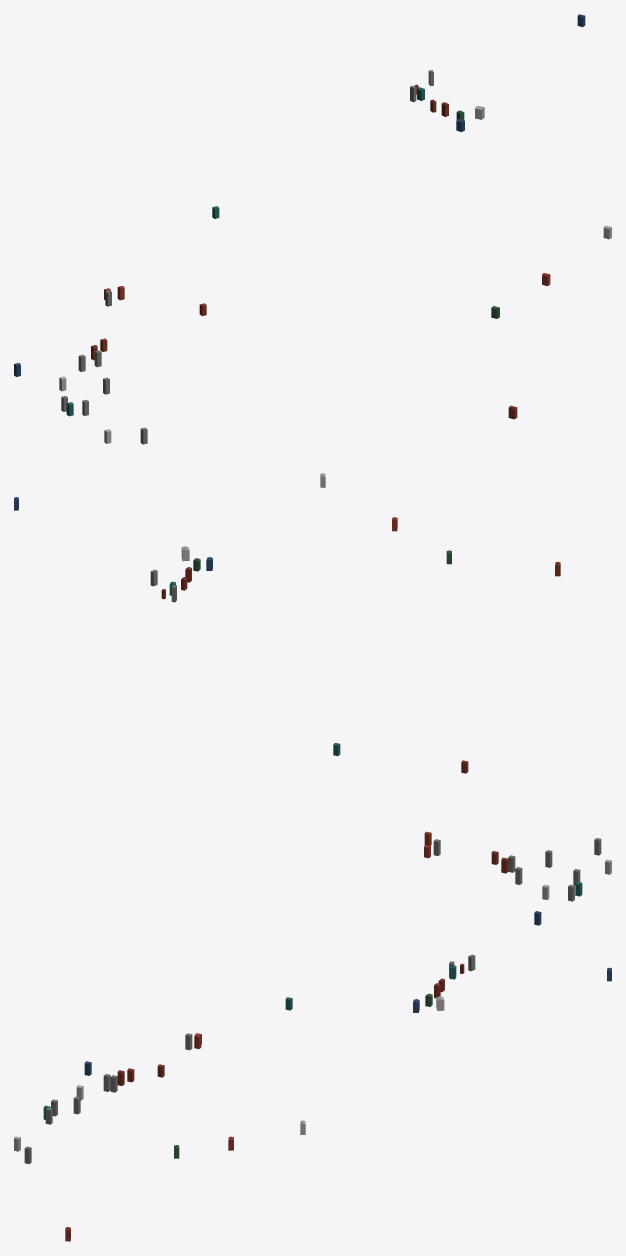
Rendered from near-15-27353-14877.eb10e88f.glb.
The picture shows the model from 3 angles, top to bottom: view 1: azimuth 30°, elevation 25°; view 2: azimuth 150°, elevation 25°; view 3: azimuth 330°, elevation 25°; orthographic projection. The views are drawn at different scales.
Size of the model in its own units: 973 by 461 by 843.
